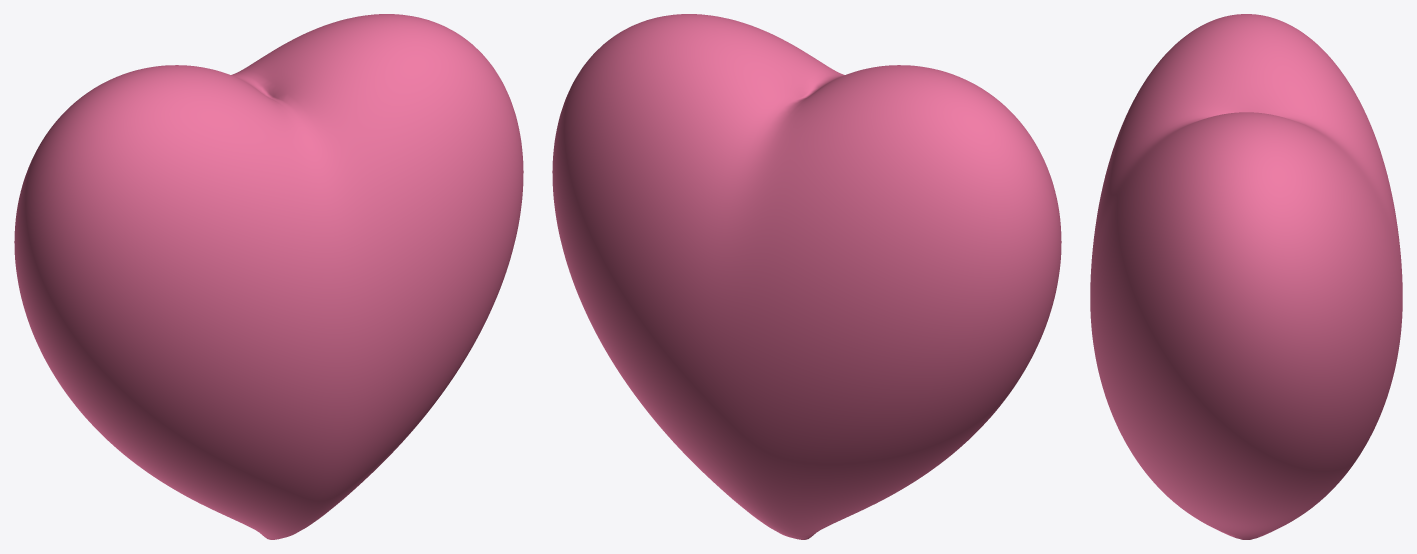
Rendered from Original_Sculpted_Heart.glb.
The picture shows the model from 3 angles, left to right: view 1: azimuth 30°, elevation 25°; view 2: azimuth 150°, elevation 25°; view 3: azimuth 270°, elevation 25°; orthographic projection. The views are drawn at different scales.
Parts seen in each view (by area): view 1: ML_Original_Sculpted_Heart; view 2: ML_Original_Sculpted_Heart; view 3: ML_Original_Sculpted_Heart.
Boxes of the visible parts, box(x1,y1,x2,y2) form: ML_Original_Sculpted_Heart: box(14, 14, 523, 539); ML_Original_Sculpted_Heart: box(552, 14, 1061, 539); ML_Original_Sculpted_Heart: box(1090, 14, 1402, 539).
Bounding box in the file's own units: 2.78 × 2.69 × 1.65.
